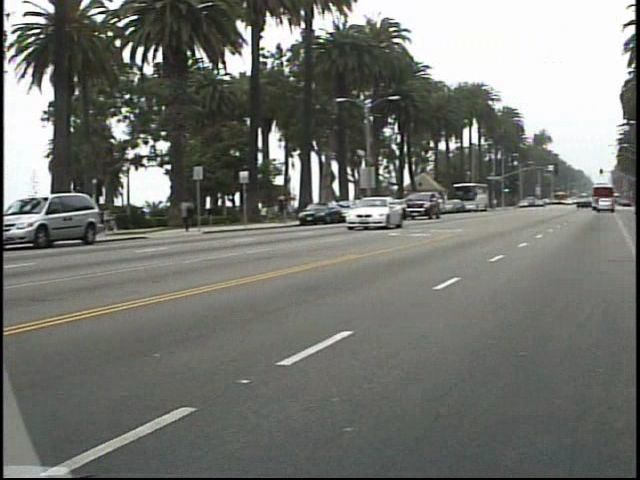person: (184, 193, 206, 233), (281, 189, 300, 224)
